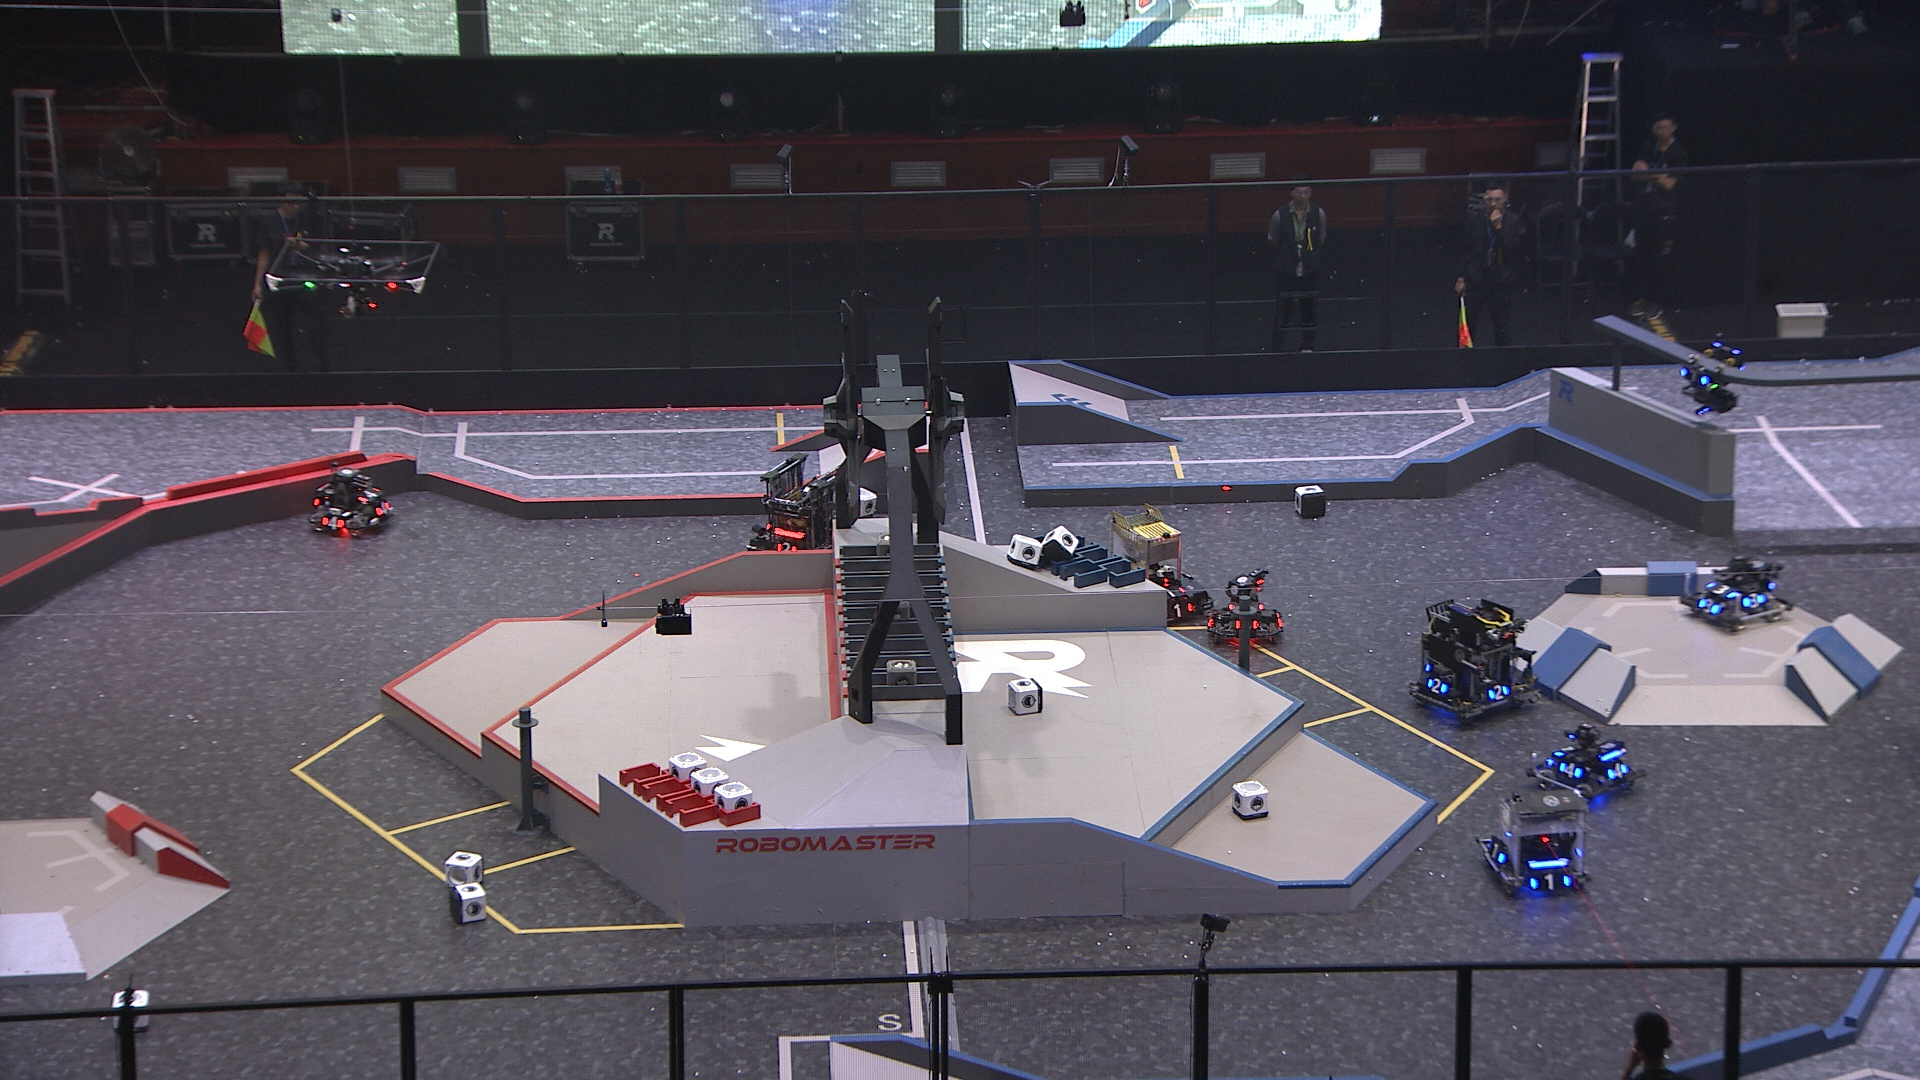armor: (1534, 874, 1569, 894), (1706, 582, 1737, 600), (1680, 365, 1708, 384), (1425, 674, 1448, 695), (319, 516, 347, 531), (1486, 843, 1506, 864), (1560, 761, 1580, 781), (1697, 597, 1720, 615), (1742, 593, 1766, 608), (1607, 764, 1627, 781), (1487, 684, 1509, 700), (1160, 585, 1185, 599), (357, 488, 382, 501), (1168, 603, 1191, 617), (1555, 742, 1576, 757), (774, 541, 799, 553), (1201, 609, 1215, 632), (373, 501, 392, 516)
car: (1406, 600, 1542, 727), (1093, 501, 1212, 629), (1476, 779, 1596, 898), (742, 454, 845, 568), (1675, 555, 1795, 632), (1532, 723, 1644, 803), (1195, 562, 1280, 644), (309, 465, 394, 537)
watcher: (1677, 339, 1746, 413)
